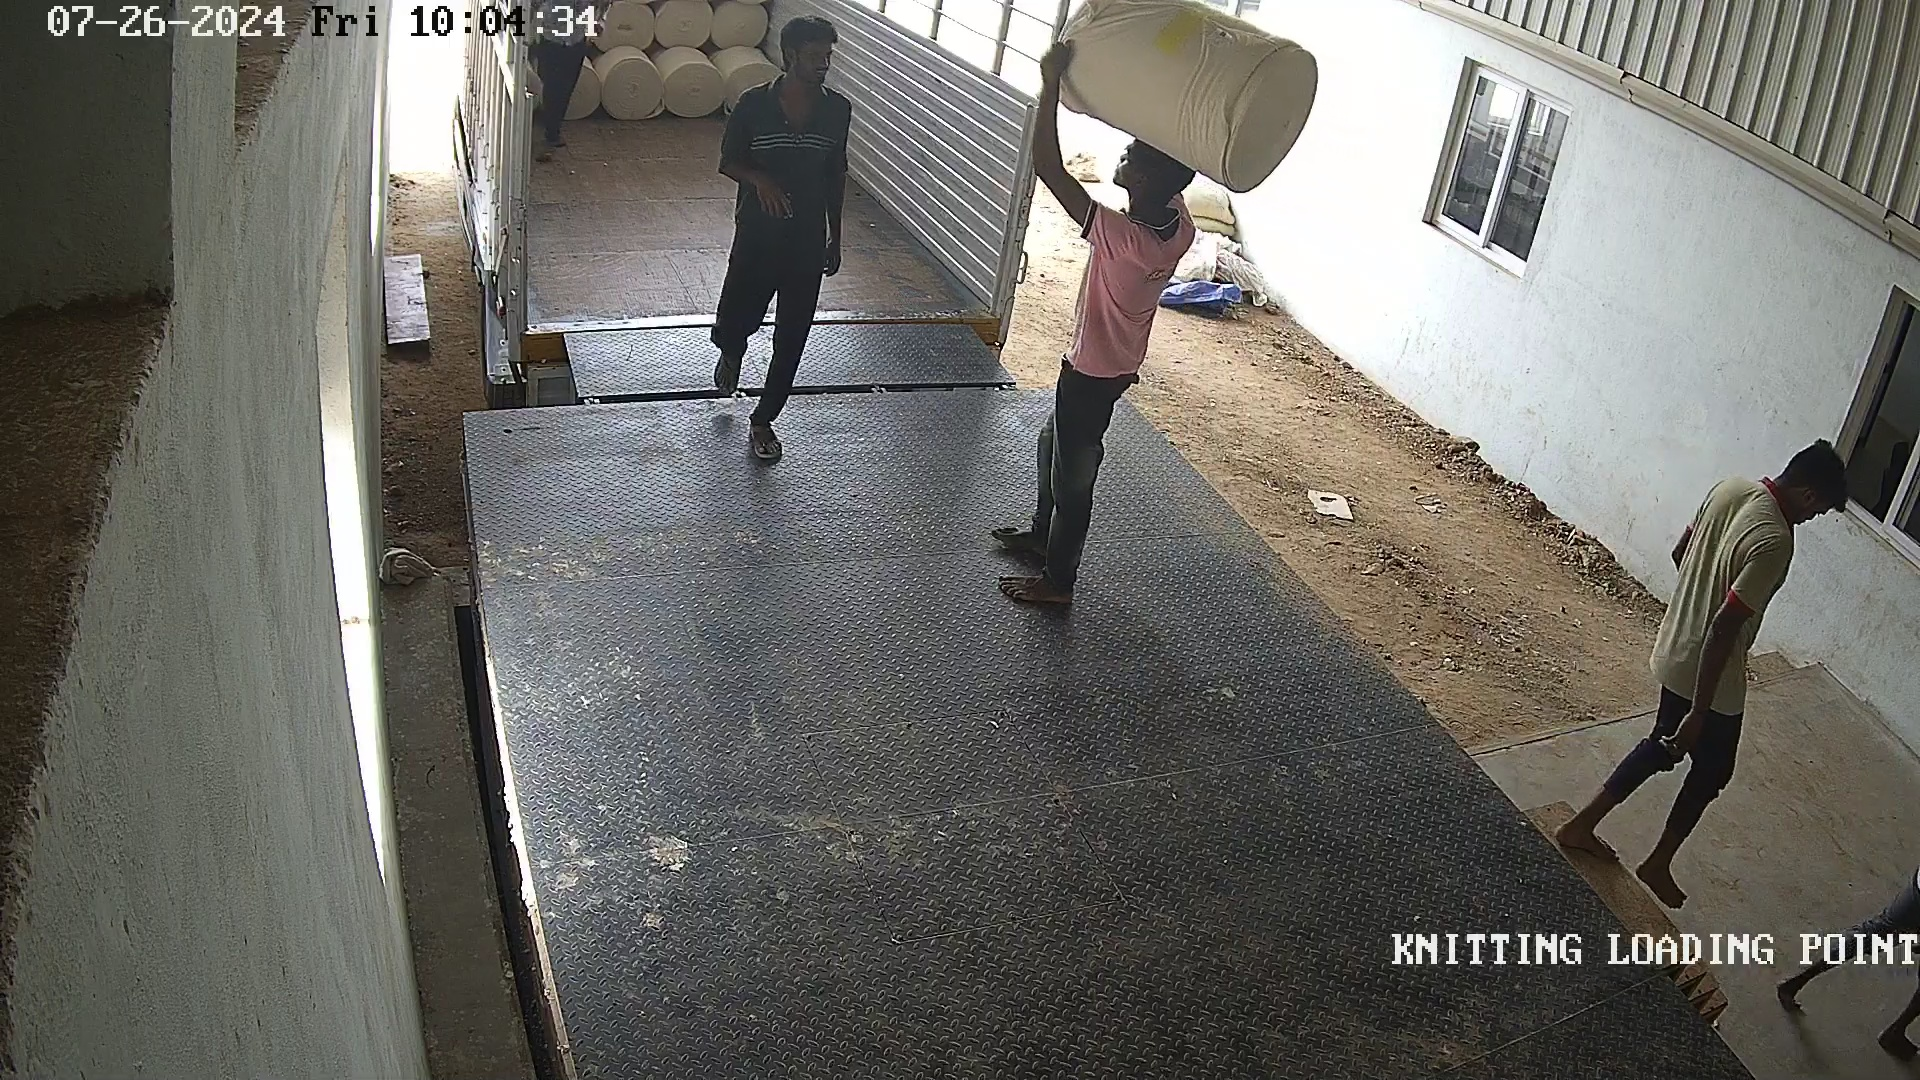bag: (1036, 8, 1336, 195)
